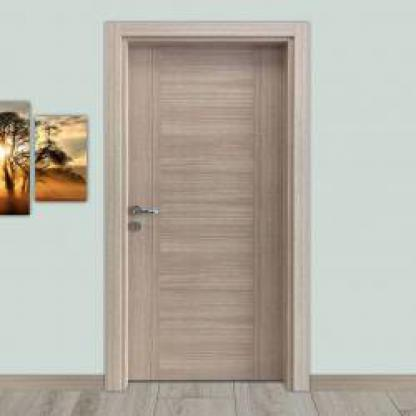door: (126, 44, 282, 378)
